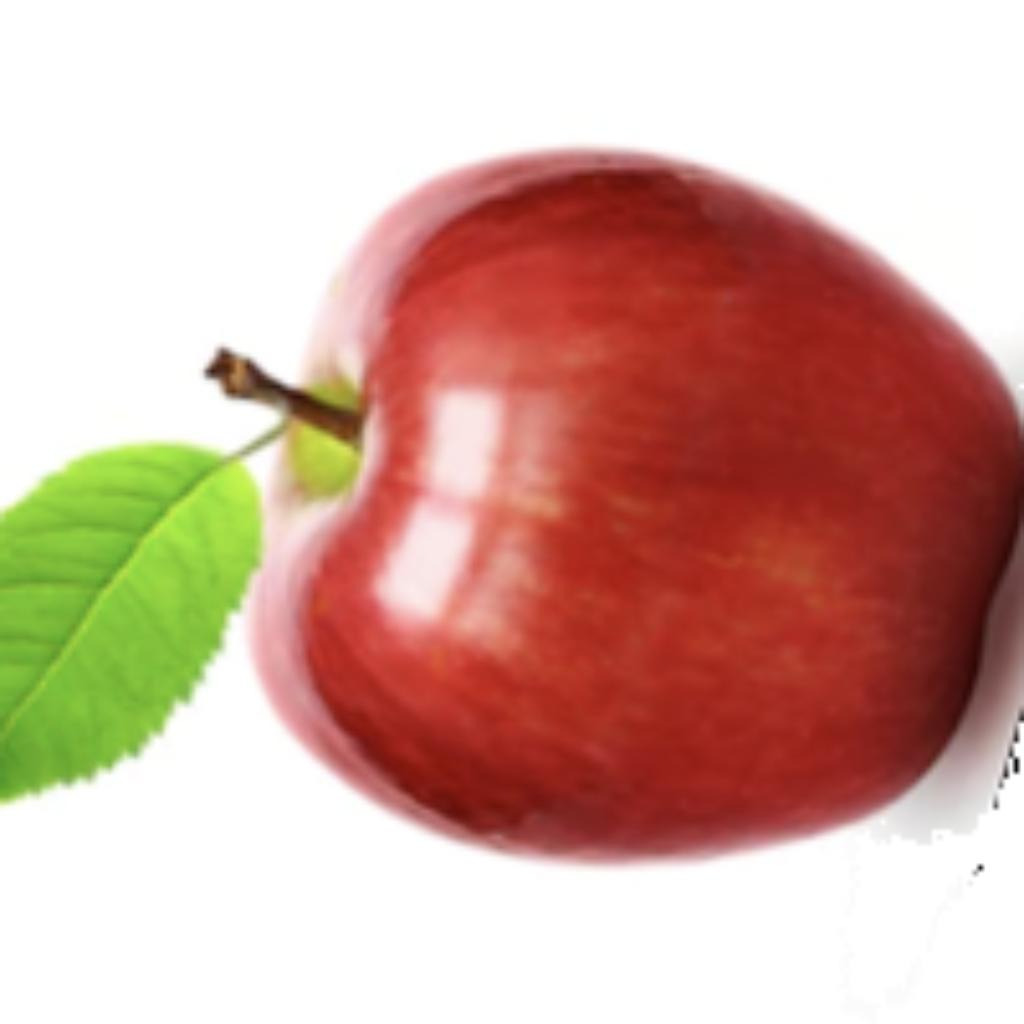apple: (0, 138, 1019, 870)
